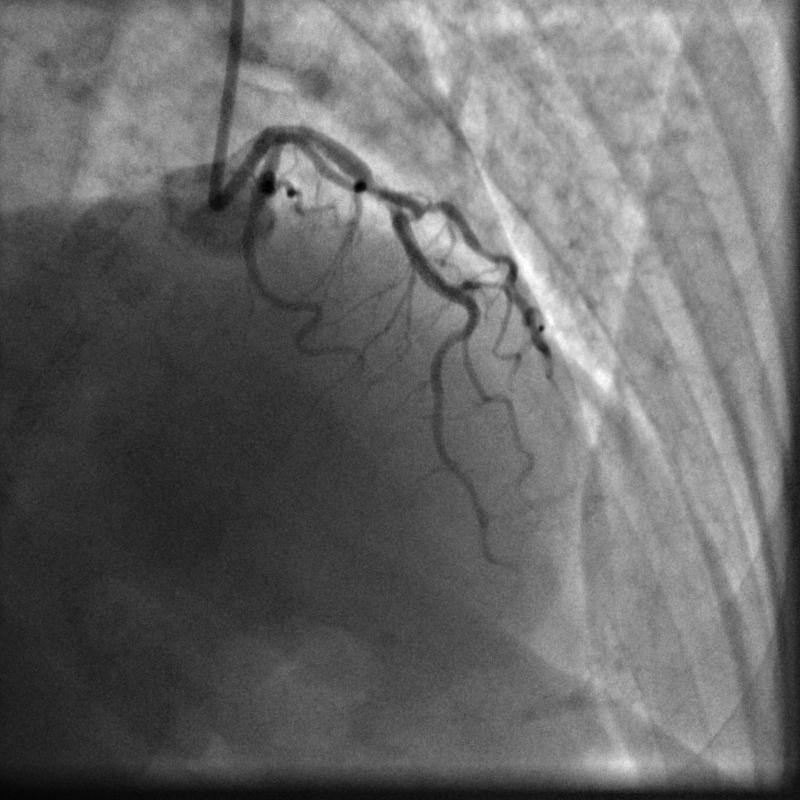Stenosis: (365, 167, 385, 203)
